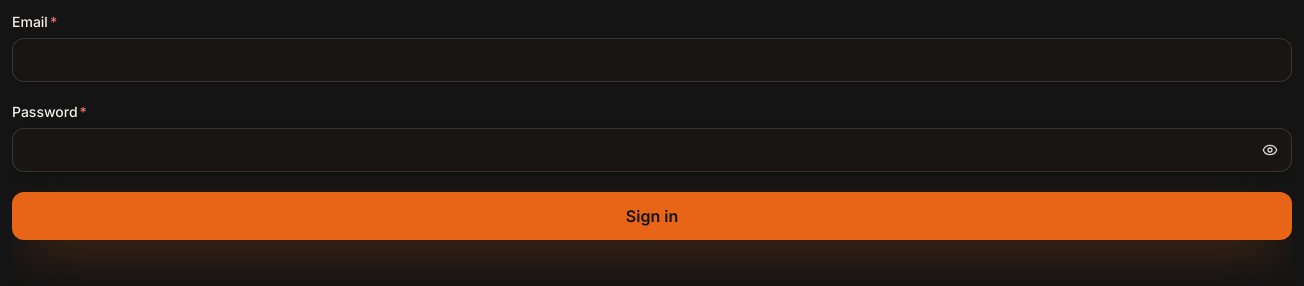
AdminLoginForm › shows and hides the password with an accessible toggle
Later steps or results of the test are not shown.
Click the button named "Show password".
click(1270, 150)  # box [1248, 128, 1292, 172]
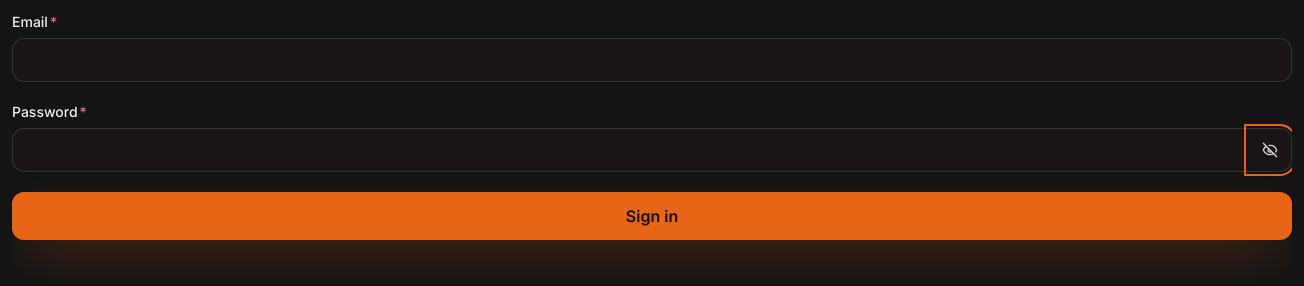
Check: the button named "Hide password" is pressed, box [1248, 128, 1292, 172]
